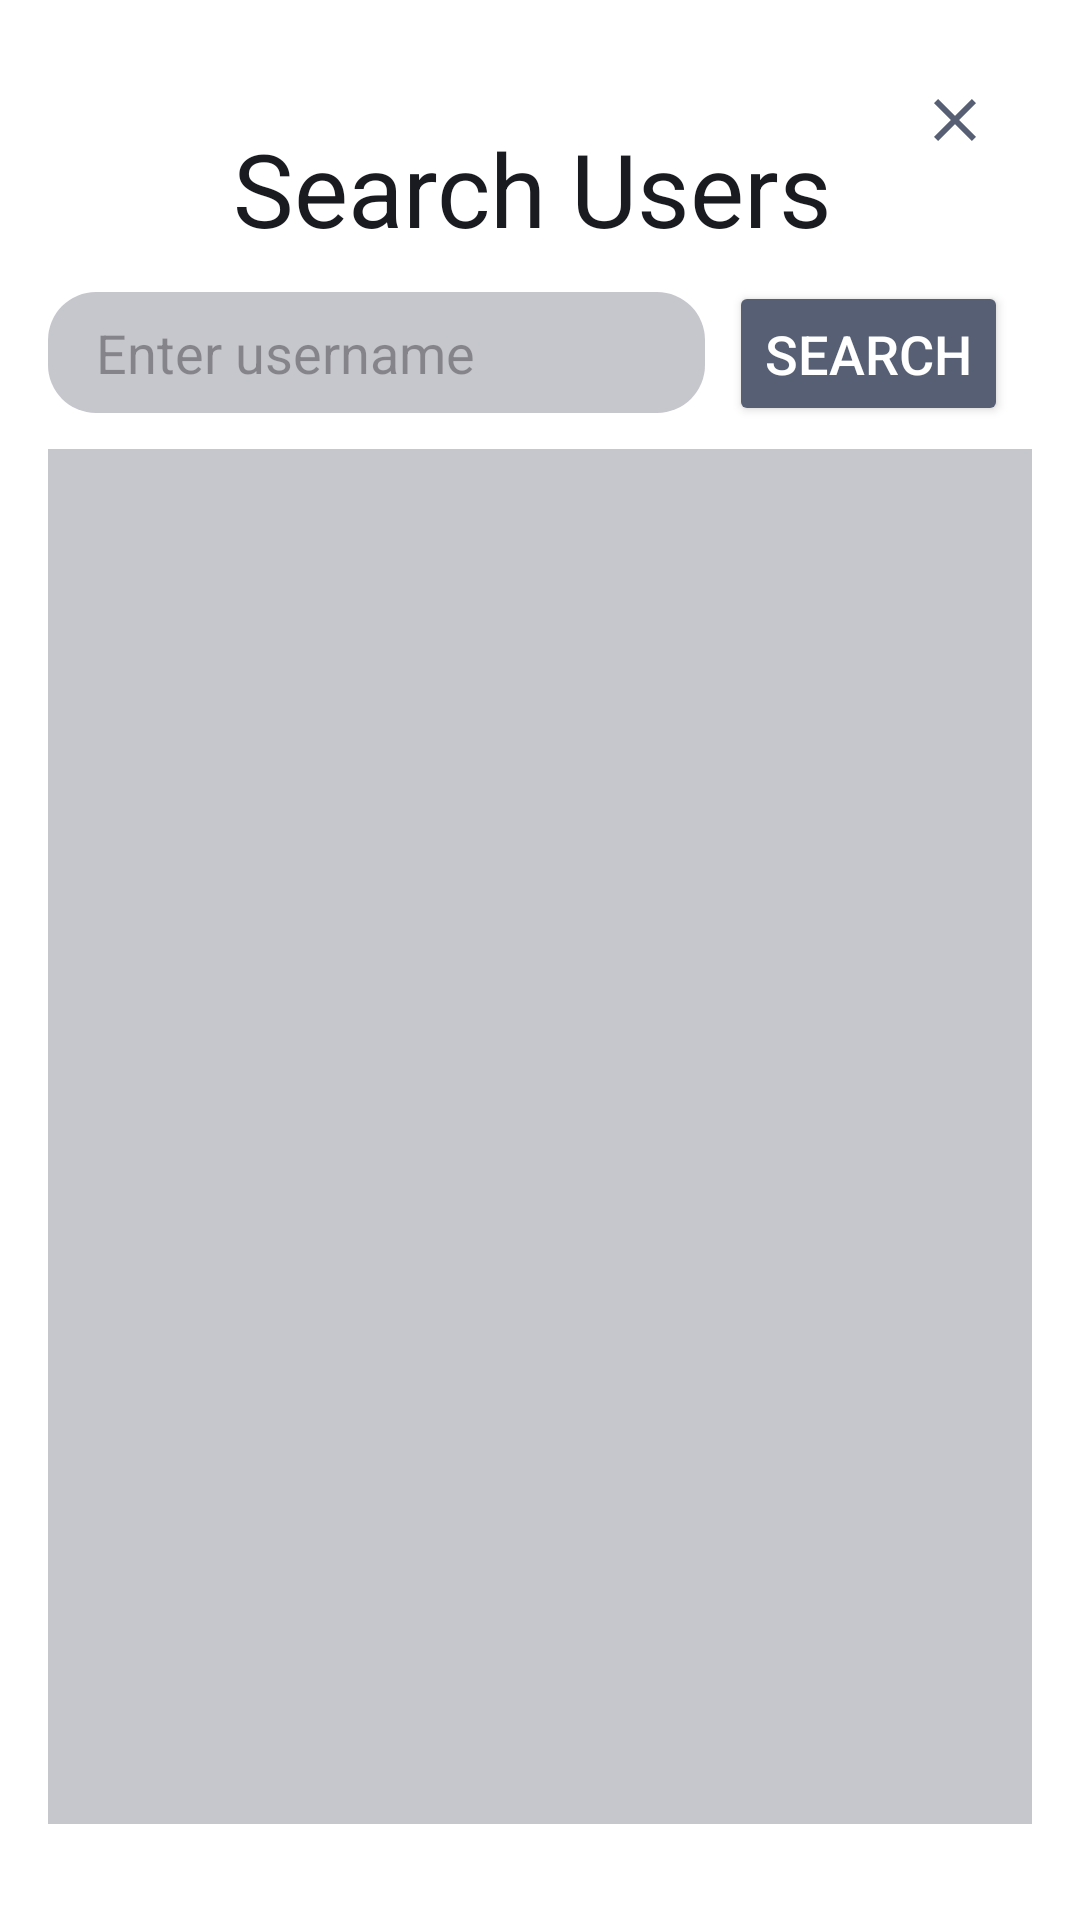

Icons on this 1080 × 1920 Android screen, each with the point to tap as (x,y):
cancel screen button: (955,120)
